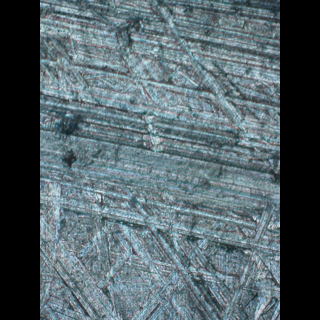d: (45, 178, 280, 320), (106, 0, 245, 157)
